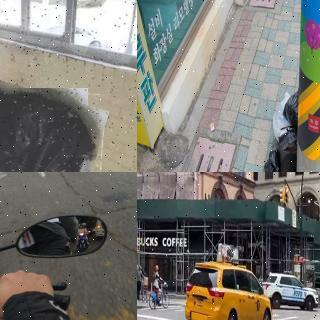Garbage: (0, 79, 98, 172), (274, 130, 303, 172), (272, 93, 294, 138)
